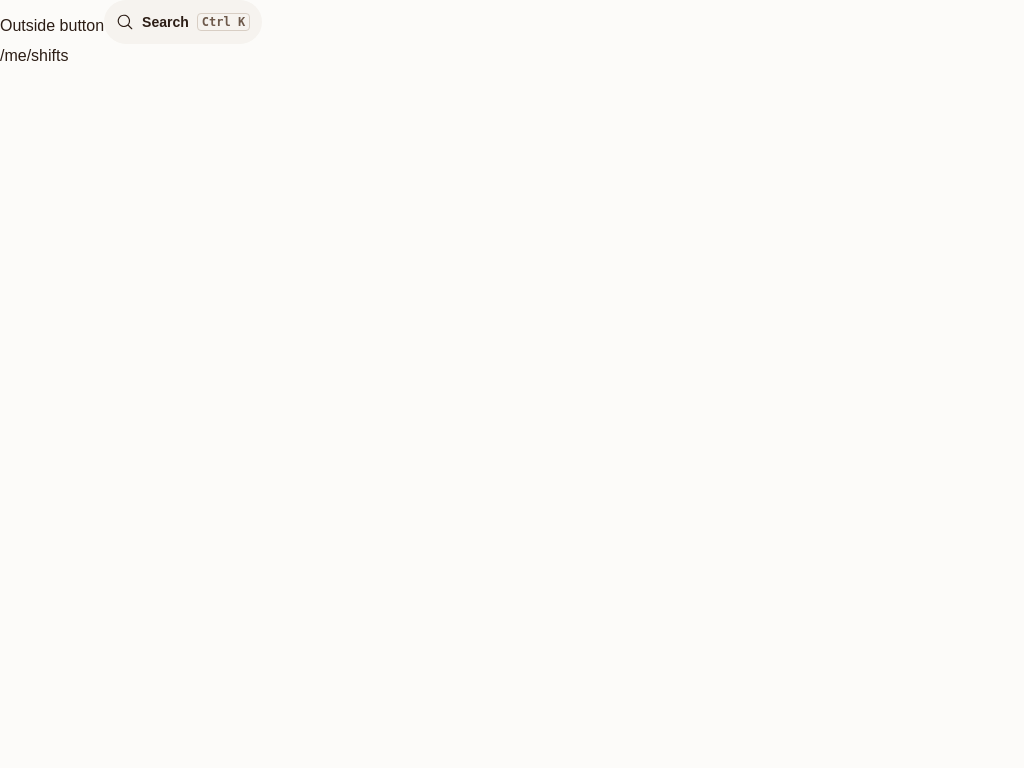
Scenario: CommandPaletteLauncher › searches help articles and opens one with Enter
The width and height of the screenshot is (1024, 768).
Press k
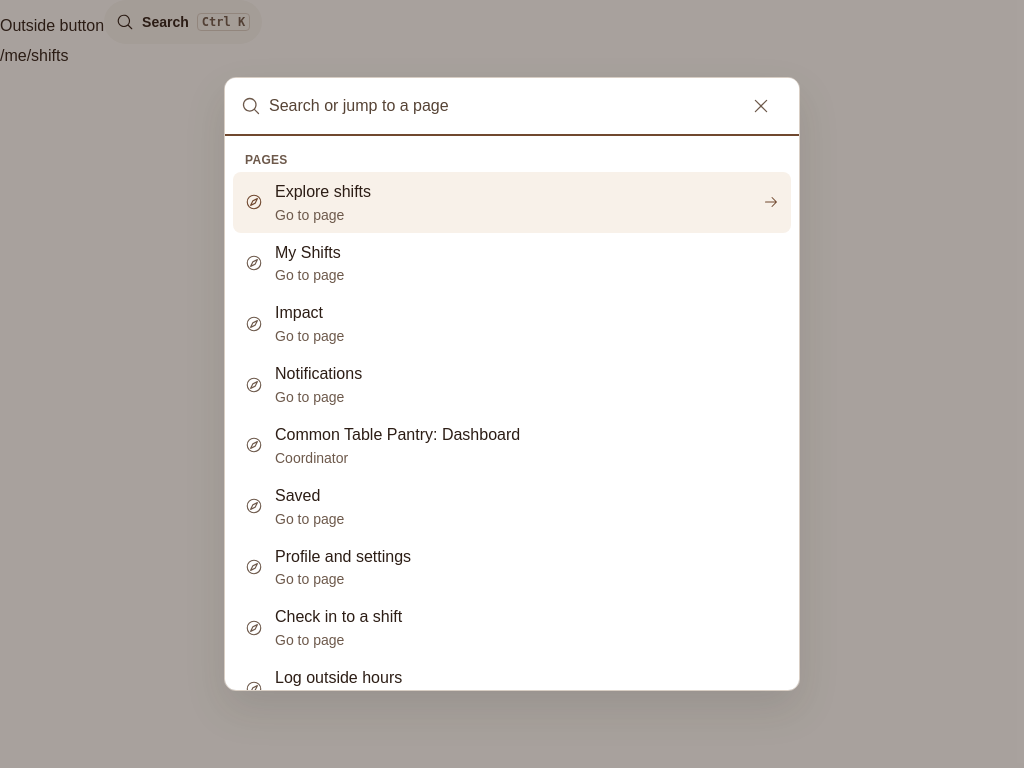
Type "kiosk code" into the dropdown named "Search pages, shifts, organizations, and help" at point(500, 106), box [269,78,731,134]
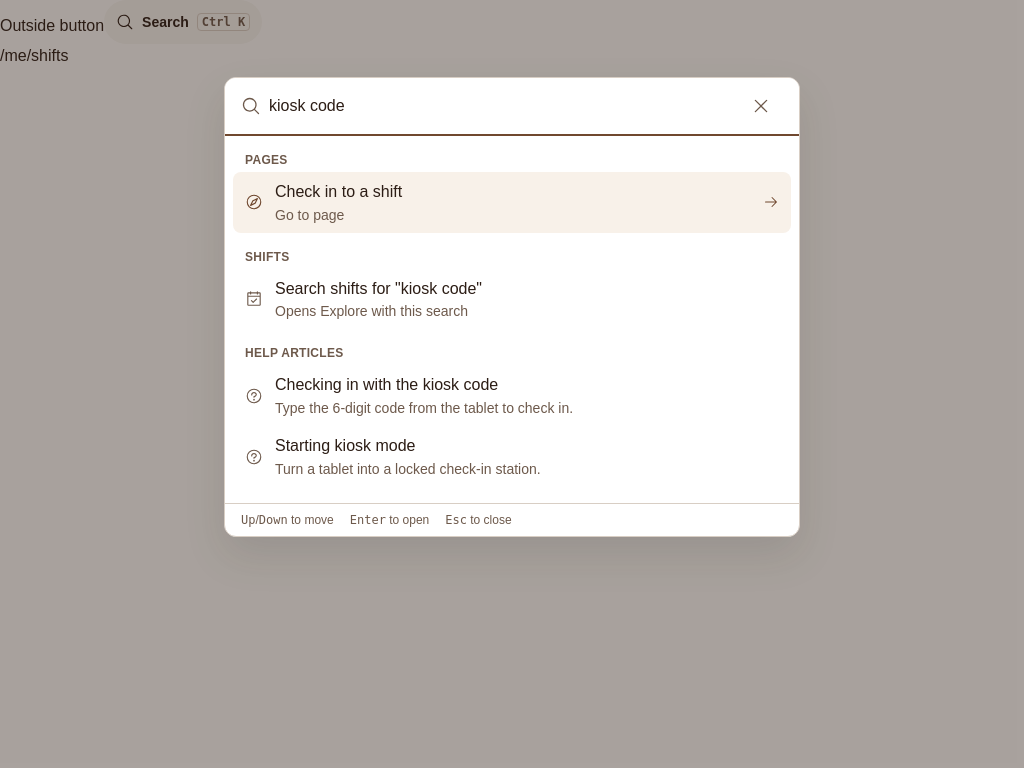
Press ArrowDown in the dropdown named "Search pages, shifts, organizations, and help", box [269,78,731,134]
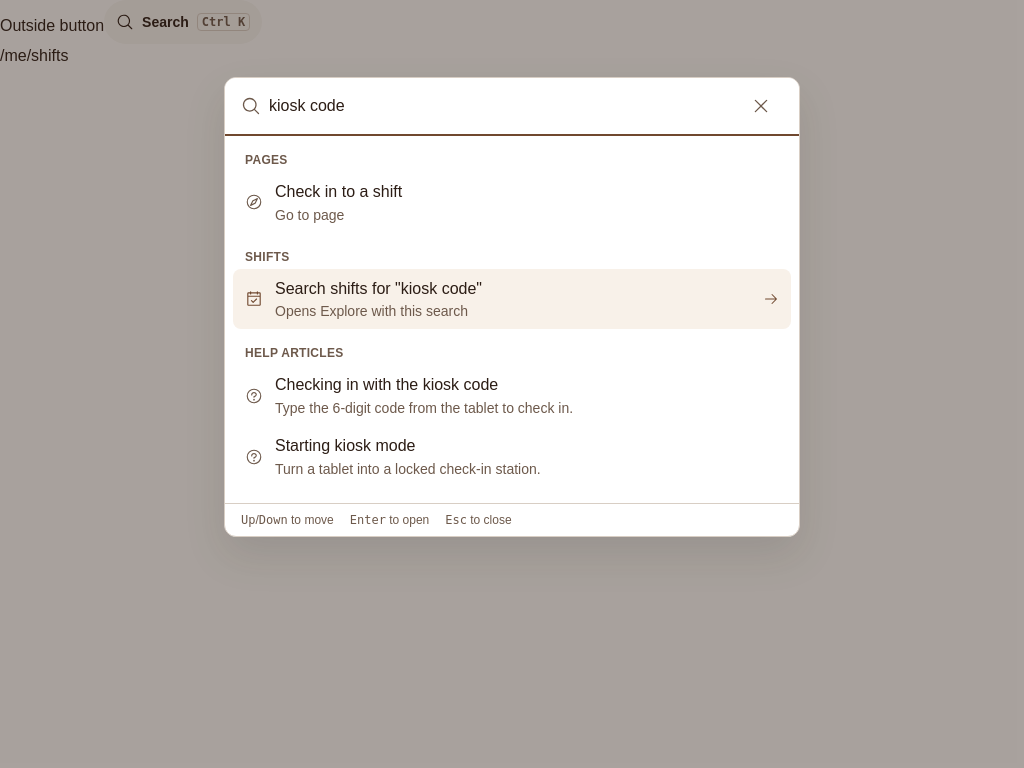
Press ArrowDown in the dropdown named "Search pages, shifts, organizations, and help", box [269,78,731,134]
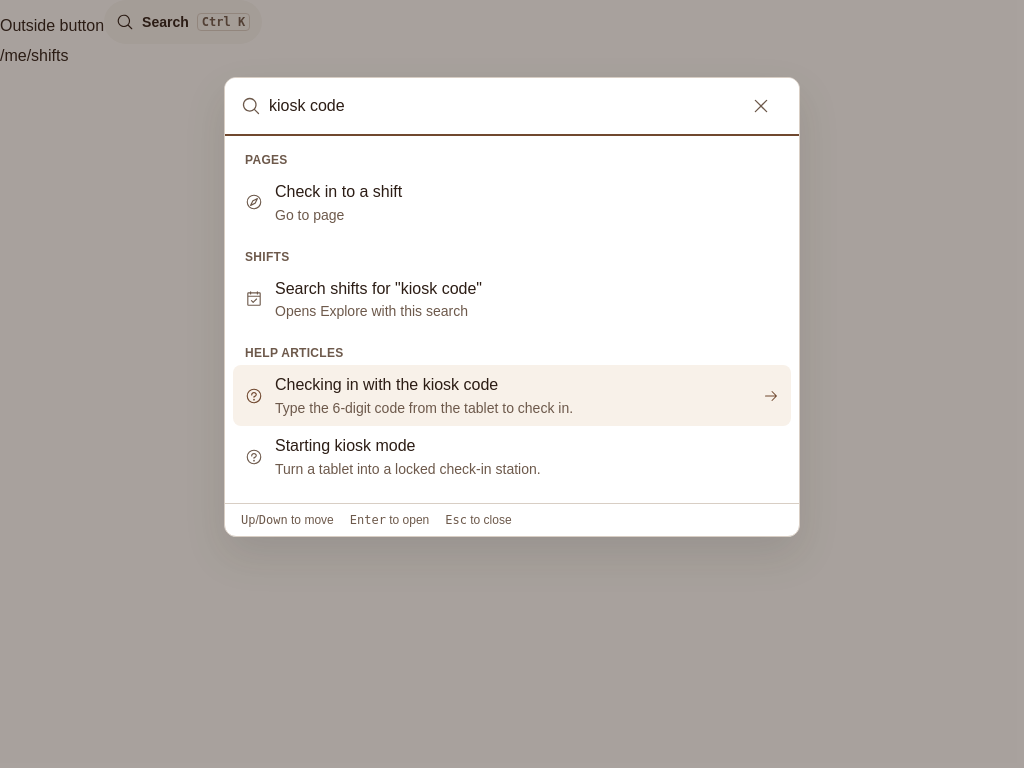
Press Enter in the dropdown named "Search pages, shifts, organizations, and help", box [269,78,731,134]
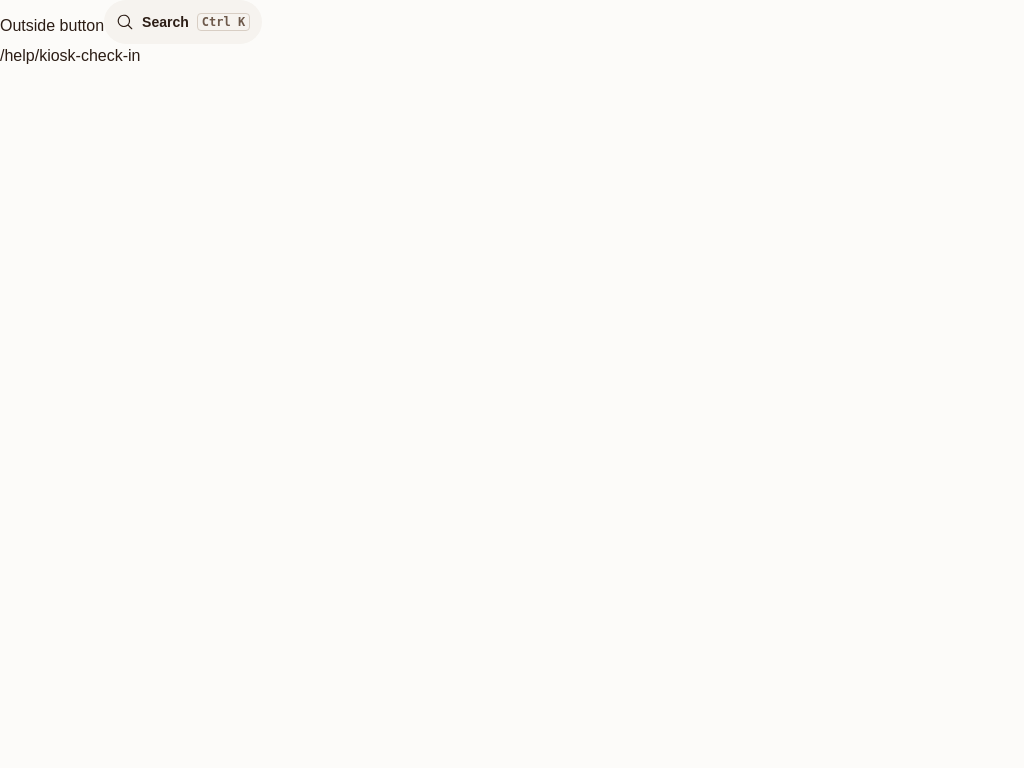
Result: the dialog is gone
Result: the text with test id "location" reads "/help/kiosk-check-in" at [0,47,140,64]
